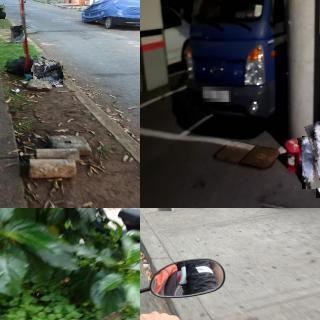Garbage: (6, 51, 48, 76), (300, 136, 319, 189), (32, 58, 65, 87), (310, 120, 320, 198), (11, 25, 24, 43), (0, 5, 5, 19), (24, 72, 33, 79), (46, 0, 51, 3)
